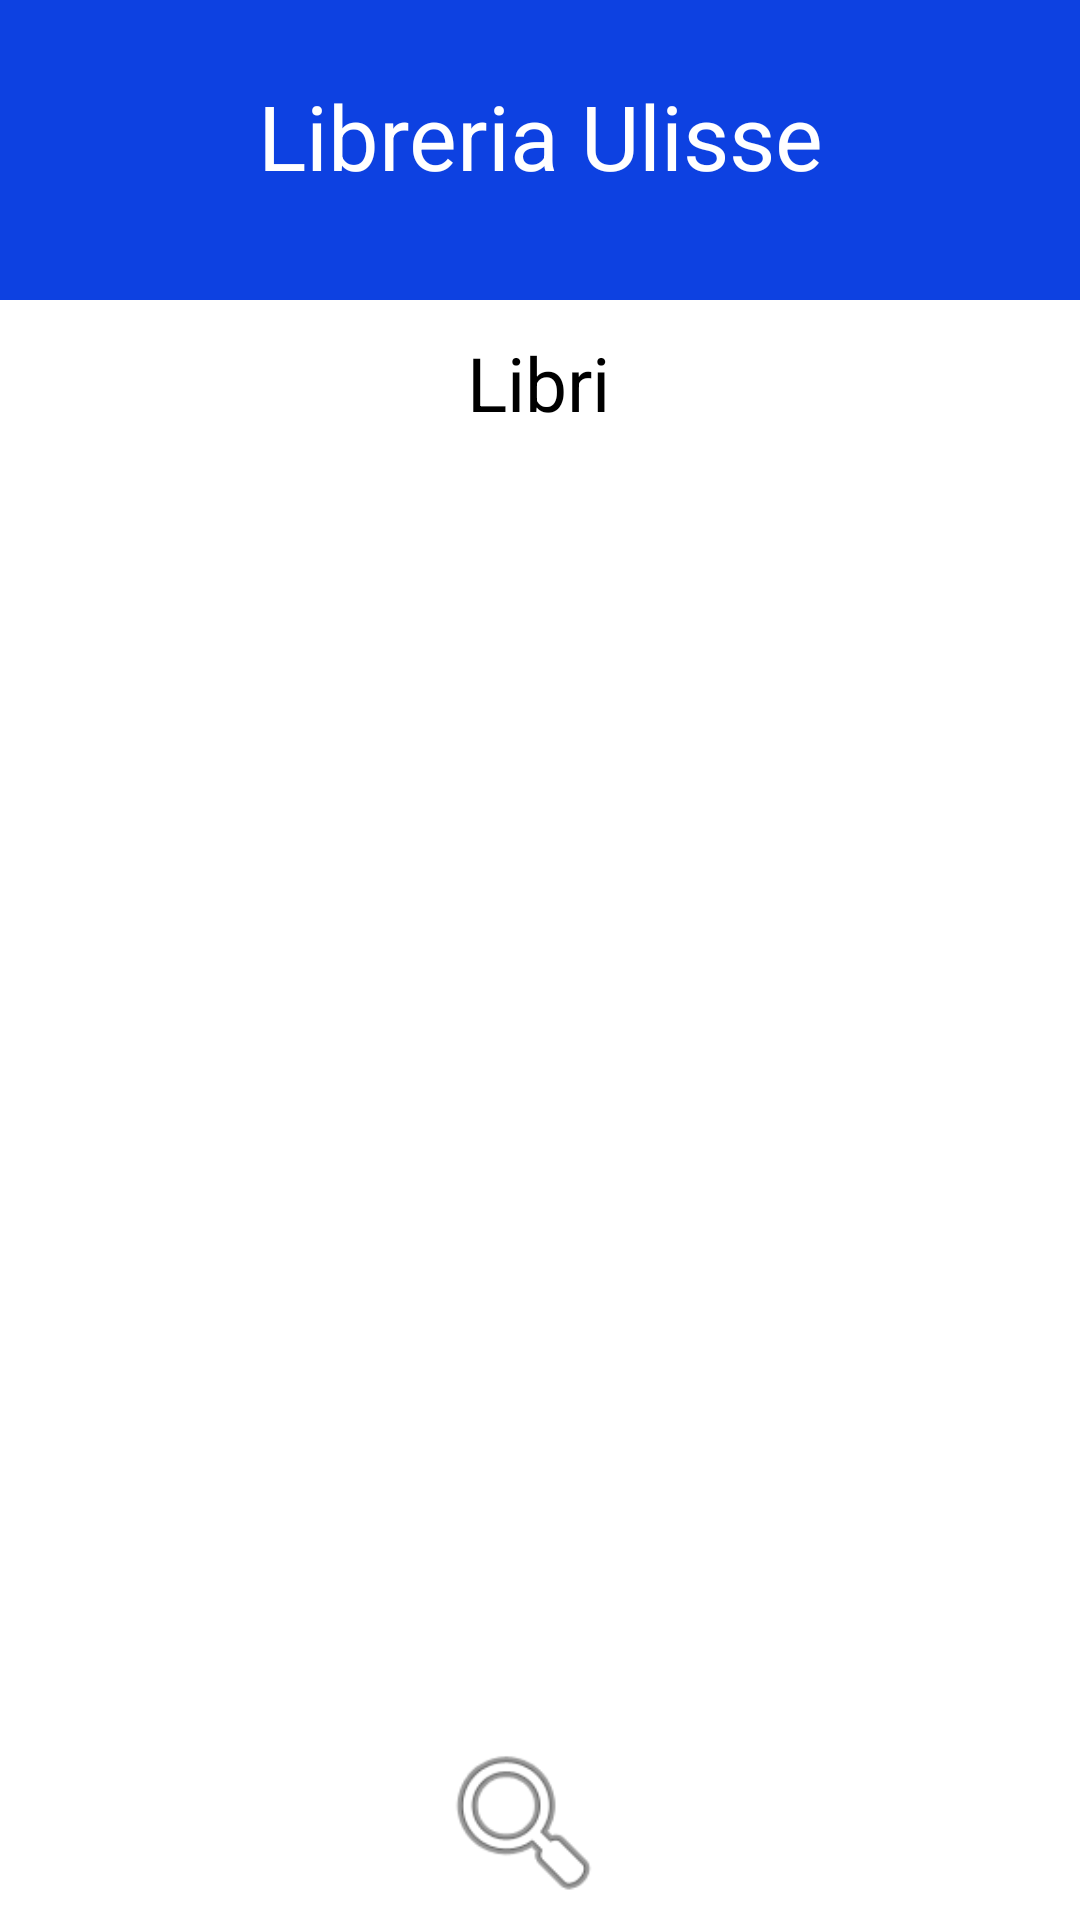

Where to tap for icons on this 1080w x 1920h app screen, as [x,y]:
search: [523,1823]
